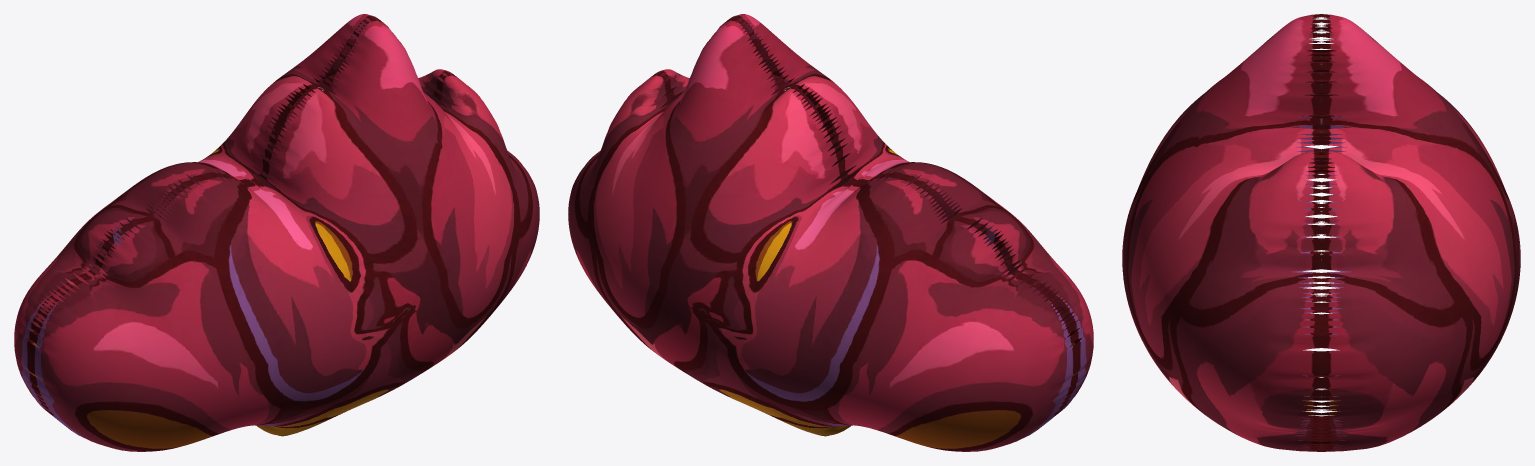
Rendered from red_pods.glb.
3 renders of one model, left to right at view 1: azimuth 30°, elevation 25°; view 2: azimuth 150°, elevation 25°; view 3: azimuth 270°, elevation 25°, orthographic. The views are drawn at different scales.
Parts seen in each view (by area): view 1: red_pods; view 2: red_pods; view 3: red_pods.
Part boxes in pixels (<box>): red_pods: <box>14,14,539,451</box>; red_pods: <box>568,14,1093,451</box>; red_pods: <box>1122,14,1520,451</box>.
Size of the model in its own units: 0.9889 by 0.7395 by 0.565.
1 material, 1 textured.
